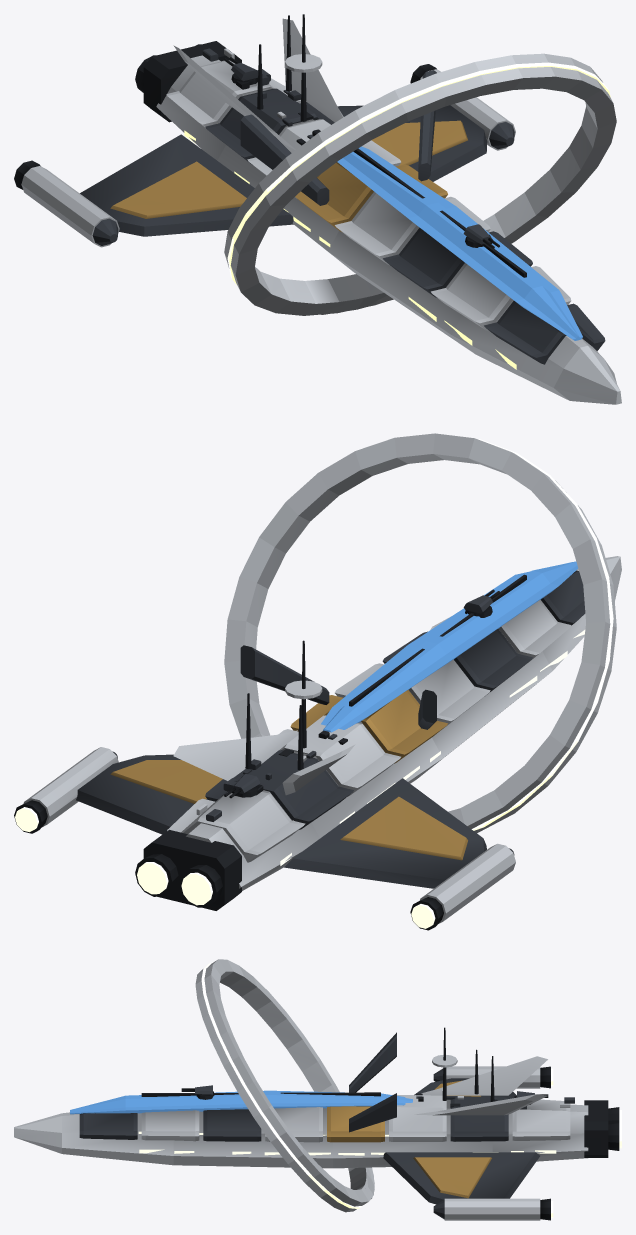
Rendered from explorer.glb.
3 renders of one model, top to bottom at view 1: azimuth 30°, elevation 25°; view 2: azimuth 150°, elevation 25°; view 3: azimuth 270°, elevation 25°, orthographic. The views are drawn at different scales.
Parts seen in each view (by area): view 1: hull_explorer; view 2: hull_explorer; view 3: hull_explorer.
Part boxes in pixels (x1,y1,x2,y2): hull_explorer: (14,14,621,404); hull_explorer: (14,433,621,930); hull_explorer: (14,959,621,1220).
Size of the model in its own units: 42.01 by 30.69 by 76.22.
